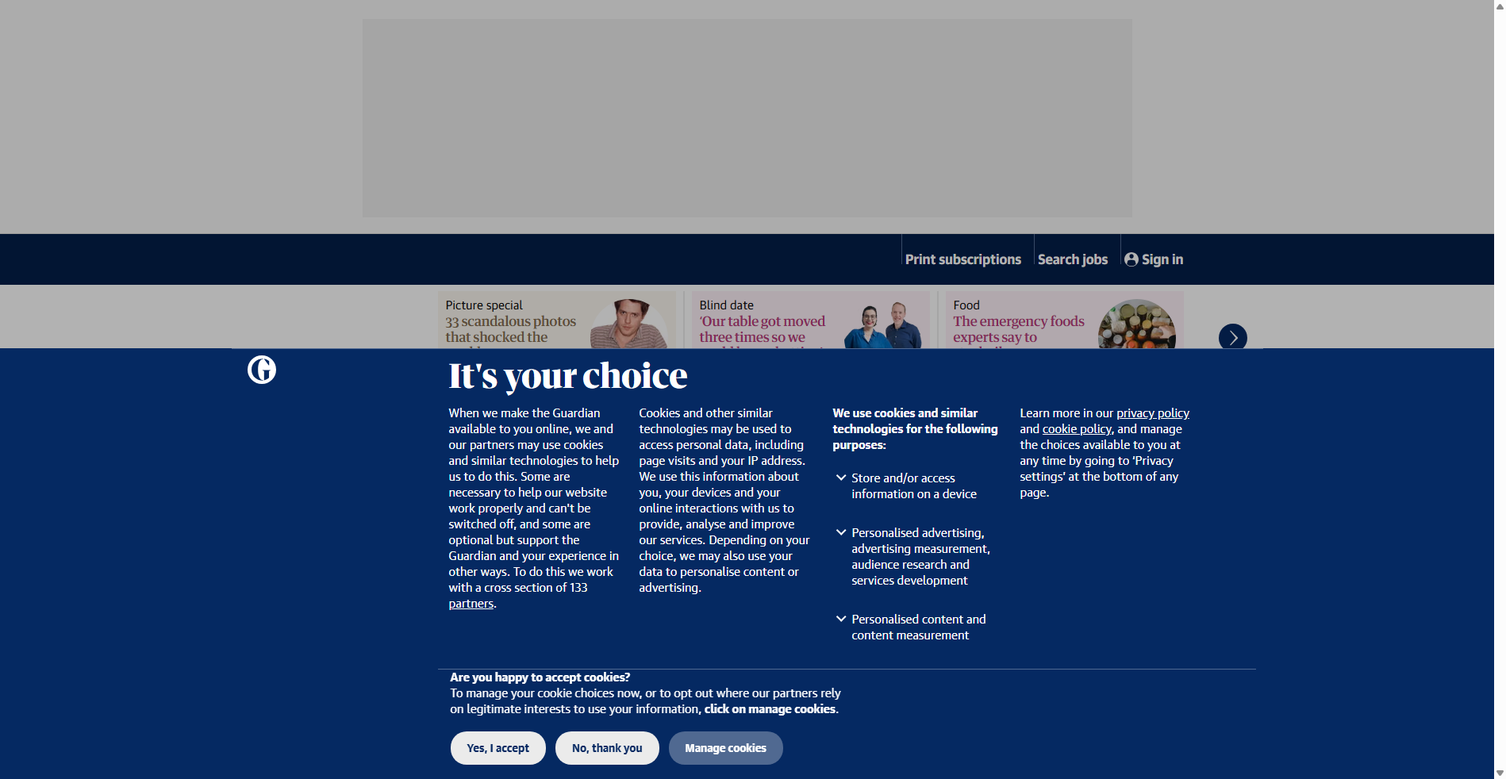general_button: (1218, 324, 1247, 352), (1159, 397, 1183, 420)
general_image: (692, 625, 1183, 779), (1183, 625, 1506, 779), (590, 299, 668, 377), (844, 299, 922, 377), (1098, 299, 1176, 377), (1352, 299, 1429, 377)
general_link: (438, 533, 1183, 779), (692, 625, 1183, 779), (926, 397, 1183, 485), (438, 291, 676, 385), (692, 291, 930, 385), (945, 291, 1183, 385), (1199, 291, 1437, 385), (441, 722, 672, 765), (902, 234, 1024, 285), (1453, 291, 1506, 385), (247, 451, 355, 492), (355, 451, 463, 492), (463, 451, 571, 492), (571, 451, 679, 492), (679, 451, 787, 492), (1035, 234, 1111, 285), (1121, 234, 1183, 285), (441, 772, 672, 779), (683, 503, 787, 516), (373, 503, 441, 516), (562, 503, 630, 516), (448, 503, 509, 516), (287, 503, 342, 516), (929, 503, 983, 516), (793, 503, 838, 516), (877, 503, 922, 516), (515, 503, 556, 516), (636, 503, 676, 516), (247, 503, 280, 516), (844, 503, 870, 516), (349, 503, 366, 516)
icon_menu: (791, 449, 823, 481)
